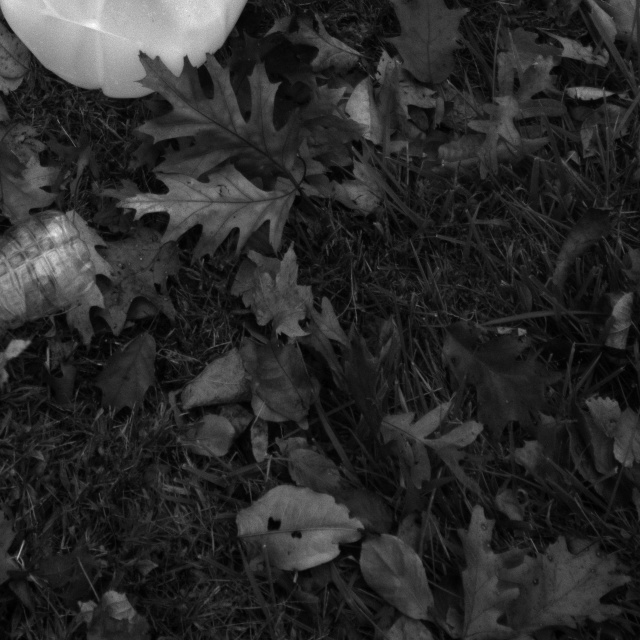bottle: (0, 209, 107, 407)
can: (0, 0, 270, 104)
